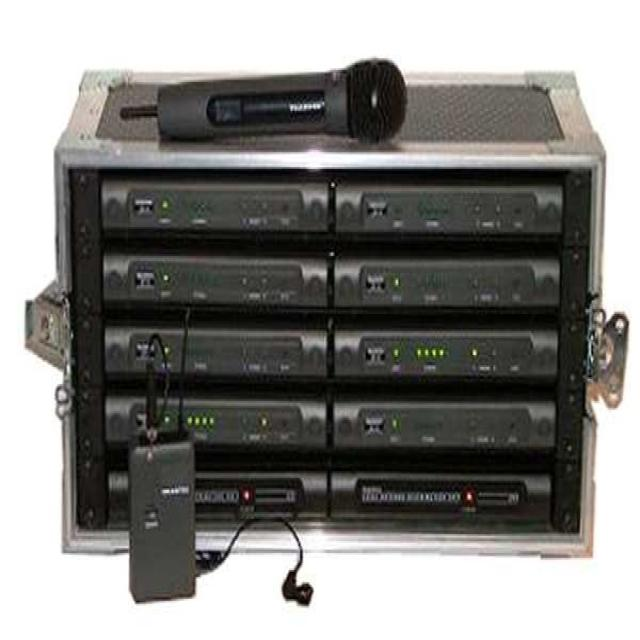microphone: (144, 59, 406, 144)
